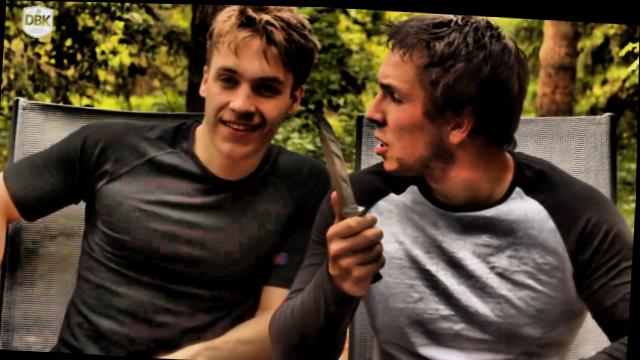knife: (298, 90, 402, 290)
